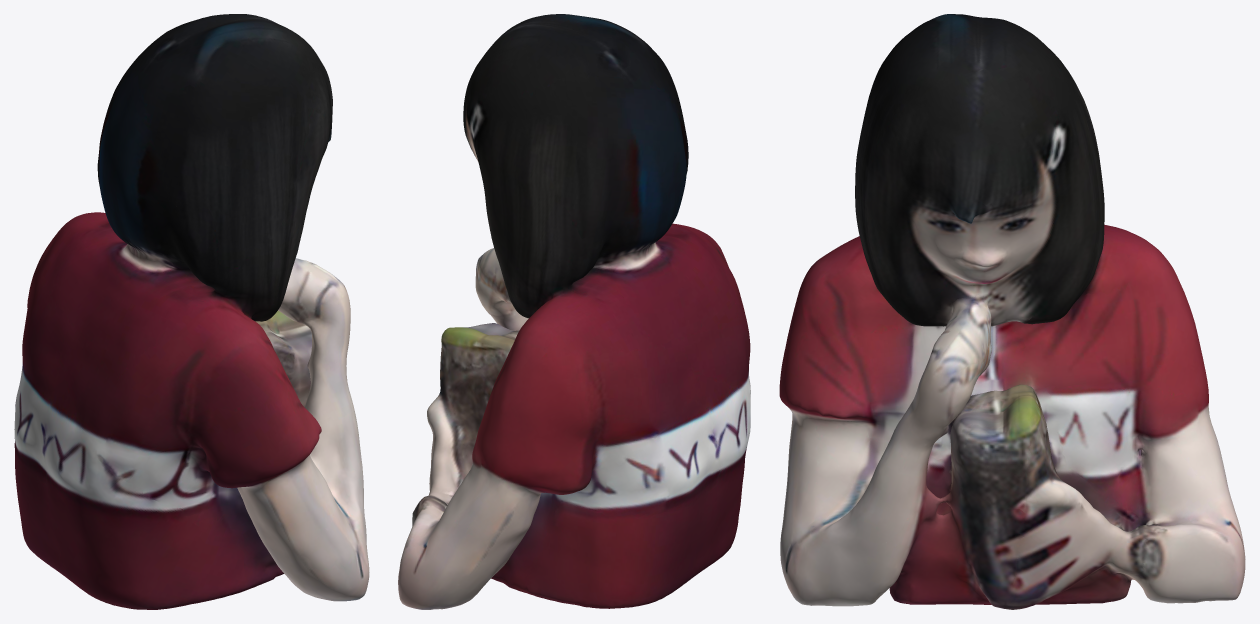
The model's file is ypmodel.glb.
3 renders of one model, left to right at view 1: azimuth 30°, elevation 25°; view 2: azimuth 150°, elevation 25°; view 3: azimuth 270°, elevation 25°, orthographic. The views are drawn at different scales.
Parts seen in each view (by area): view 1: geometry_0; view 2: geometry_0; view 3: geometry_0.
Boxes of the visible parts, bbox=[...] form: geometry_0: bbox=[14, 14, 369, 609]; geometry_0: bbox=[398, 14, 750, 609]; geometry_0: bbox=[779, 14, 1245, 609].
Bounding box in the file's own units: 0.4765 × 0.8523 × 0.6468.
1 material, 1 textured.
